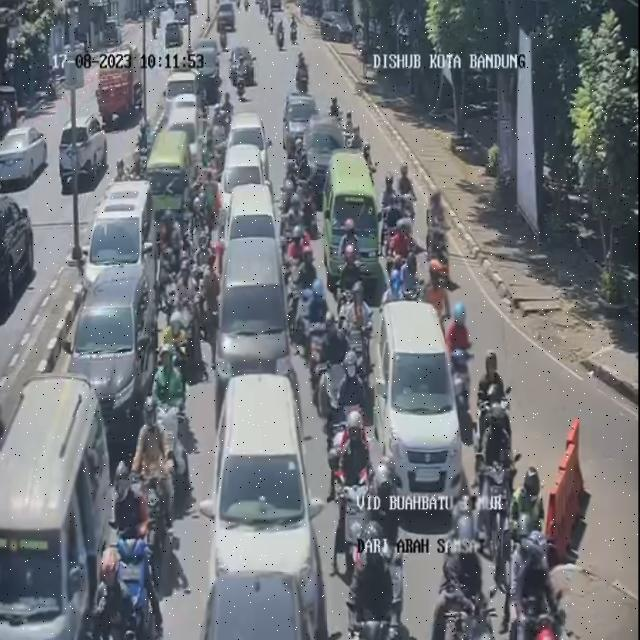cars: (208, 376, 327, 640), (0, 377, 102, 637), (373, 298, 459, 501), (62, 270, 154, 417), (216, 242, 294, 386), (80, 176, 155, 302), (197, 572, 327, 640), (326, 148, 382, 284), (222, 146, 268, 234), (148, 133, 194, 220), (307, 110, 348, 191), (164, 102, 203, 177), (228, 112, 270, 179), (284, 90, 320, 150), (192, 40, 219, 90), (210, 0, 238, 48), (200, 34, 223, 54)
motorcycle: (509, 460, 558, 636), (353, 460, 403, 602), (120, 457, 158, 634), (448, 462, 490, 602), (340, 411, 374, 568), (136, 399, 174, 534), (517, 545, 565, 640), (151, 348, 189, 463), (476, 402, 512, 522), (98, 545, 142, 638), (472, 349, 509, 455), (430, 566, 481, 640), (294, 240, 324, 350), (445, 301, 474, 410), (169, 257, 197, 365), (339, 242, 363, 344), (420, 256, 453, 329), (300, 279, 326, 368), (391, 215, 418, 298), (160, 210, 183, 302), (347, 284, 370, 372), (190, 219, 213, 305), (428, 185, 450, 266), (283, 159, 304, 237), (298, 151, 317, 234), (380, 174, 402, 238), (194, 186, 214, 248), (236, 42, 256, 100), (397, 164, 413, 236), (208, 68, 225, 117), (202, 135, 218, 187), (296, 149, 312, 194), (296, 50, 312, 94), (207, 111, 222, 154), (218, 79, 233, 121), (327, 89, 340, 131), (347, 112, 358, 154), (344, 107, 355, 148), (273, 22, 287, 54), (280, 20, 292, 54), (286, 18, 298, 50)
